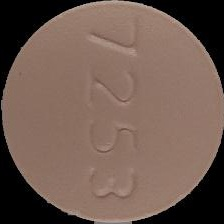0904-6214: (0, 0, 224, 224)
